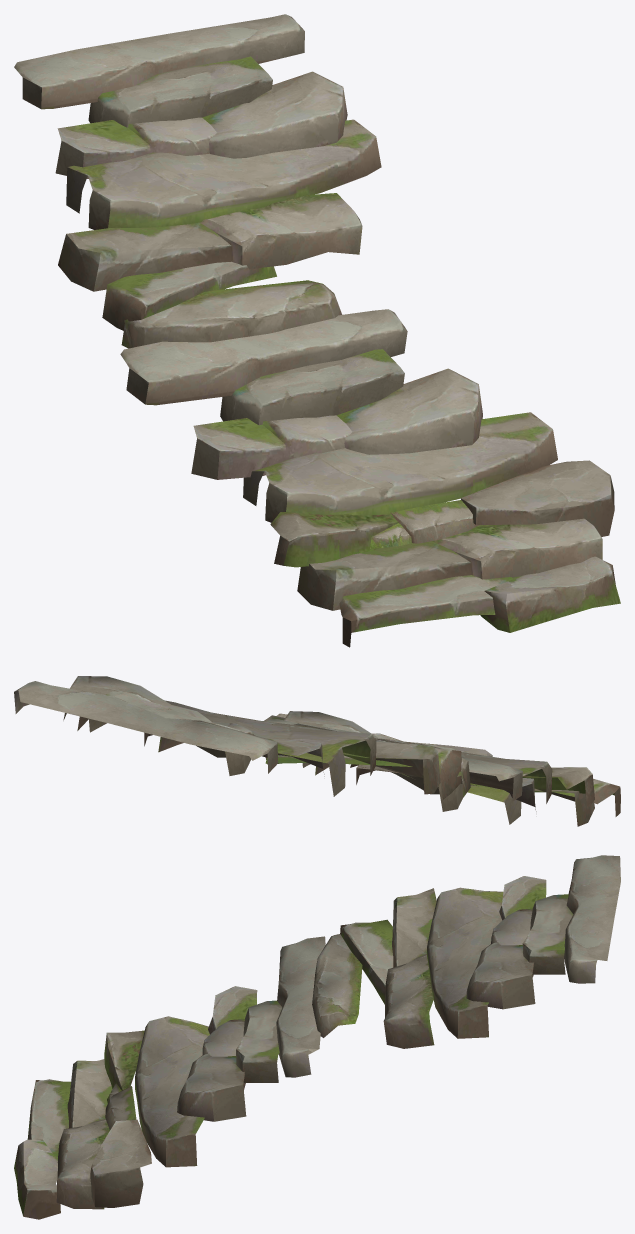
The picture shows the model from 3 angles, top to bottom: view 1: azimuth 30°, elevation 25°; view 2: azimuth 150°, elevation 25°; view 3: azimuth 270°, elevation 25°; orthographic projection. The views are drawn at different scales.
Visible parts, largest first — view 1: Mesh_13; view 2: Mesh_13; view 3: Mesh_13.
Boxes of the visible parts, bbox=[...] form: Mesh_13: bbox=[14, 14, 620, 647]; Mesh_13: bbox=[14, 676, 620, 826]; Mesh_13: bbox=[14, 855, 620, 1219].
Size of the model in its own units: 2.94 by 2.53 by 5.2.
